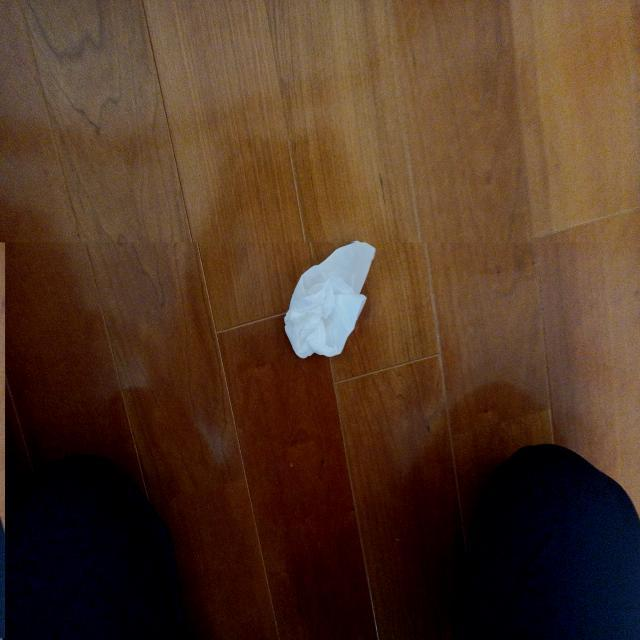Paper: (278, 238, 384, 390)
